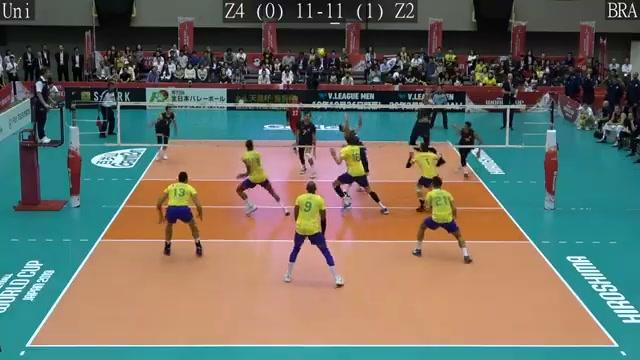ball: (314, 47, 328, 59)
